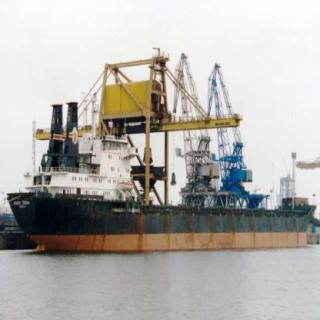Bulk Carrier: (0, 43, 266, 245)
